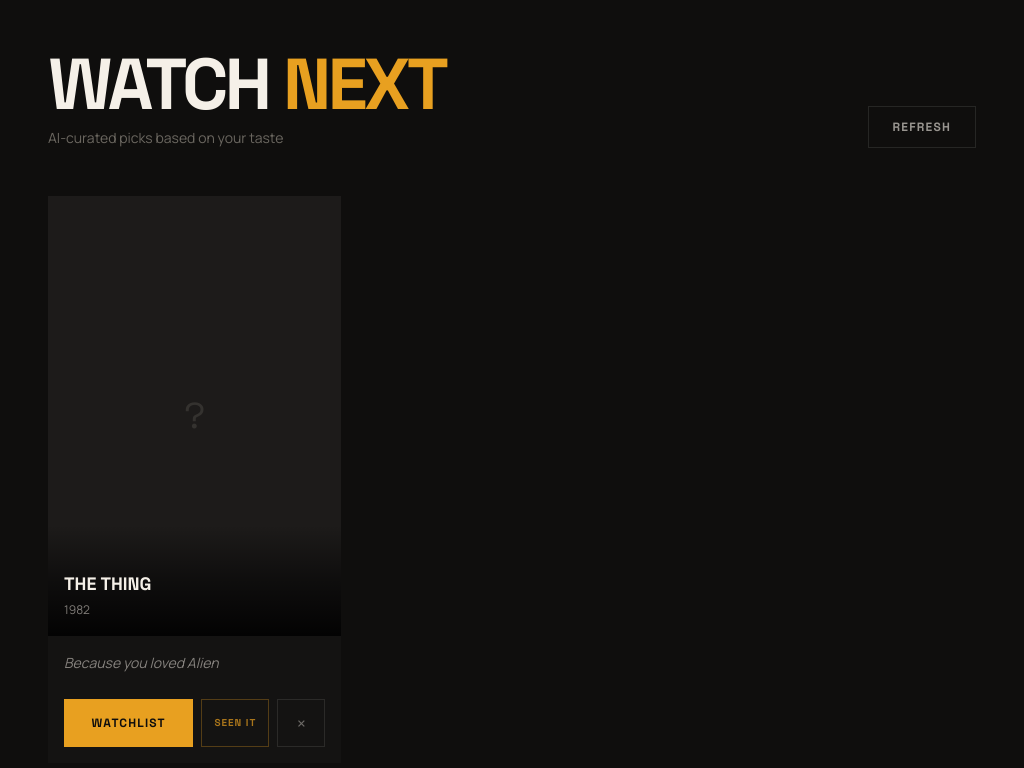
Suggestions › shows the raw error message for non-rate-limit regenerate failures
The width and height of the screenshot is (1024, 768).
Expected: the heading "The Thing" is shown, [64, 572, 152, 596]
Click the button "Refresh" at (922, 127), box [868, 106, 976, 148]
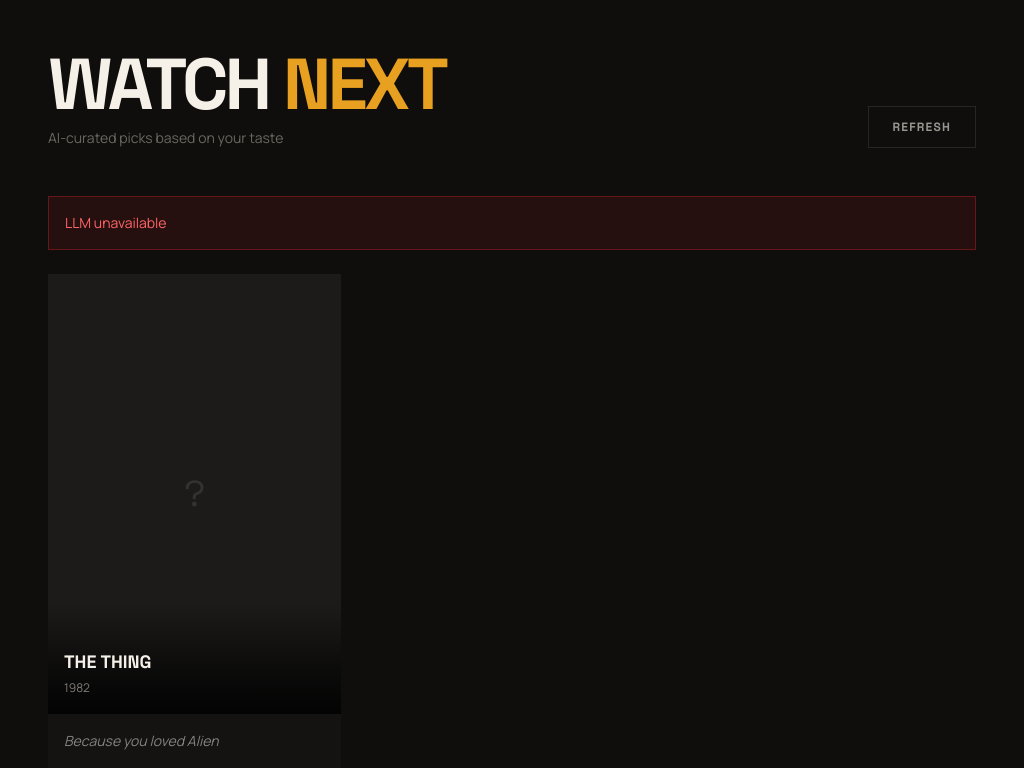
Now the text "LLM unavailable" is shown, box [48, 196, 976, 250]
